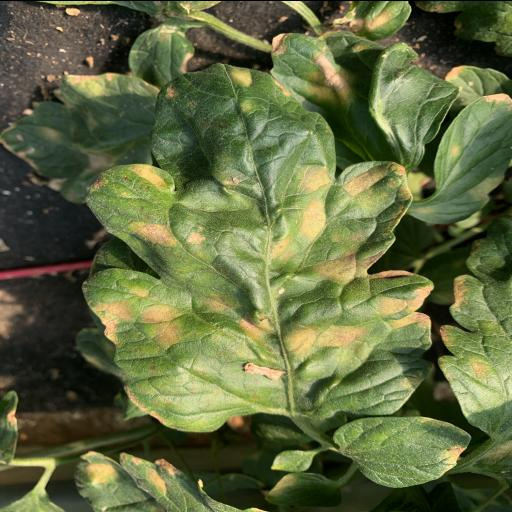Leaf Mold: (82, 64, 434, 432), (408, 92, 512, 222), (332, 414, 471, 488)
